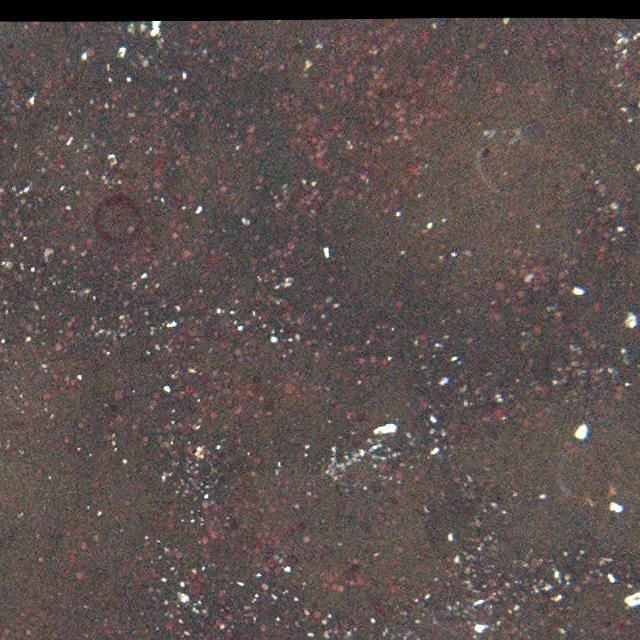scallop: (471, 123, 548, 198)
